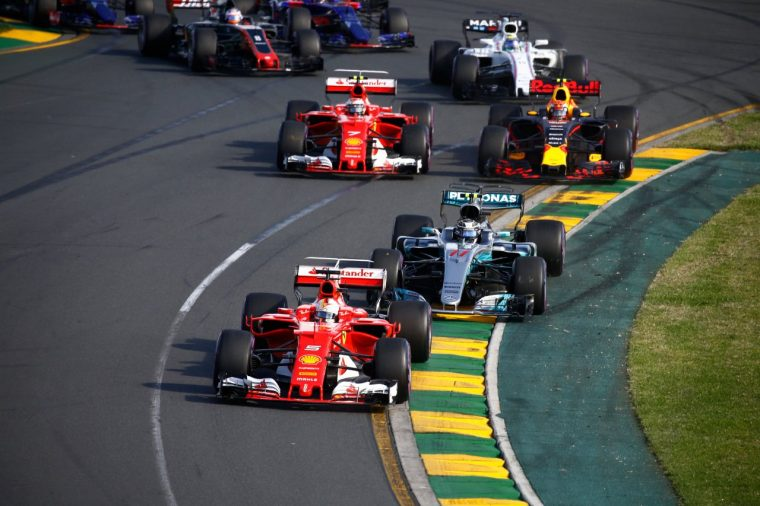f1_car: (205, 250, 442, 417), (368, 176, 573, 331), (269, 64, 445, 189), (472, 70, 645, 190), (421, 9, 595, 111), (131, 1, 334, 82)
